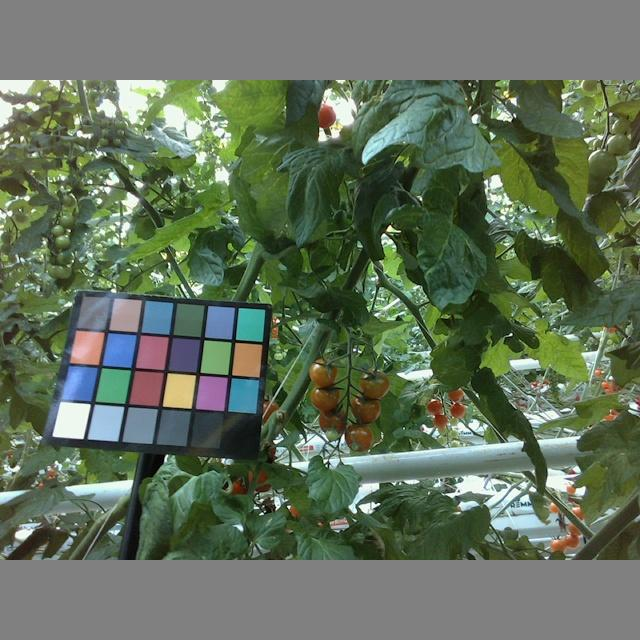pink: (356, 370, 393, 398), (346, 424, 374, 453), (307, 357, 336, 385), (354, 395, 381, 423), (307, 386, 339, 405), (318, 406, 345, 428)
